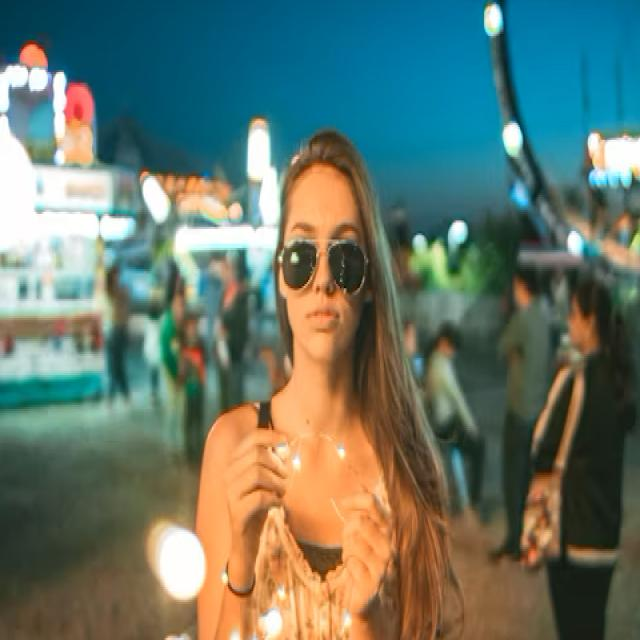Edited images: (176, 116, 465, 640)
